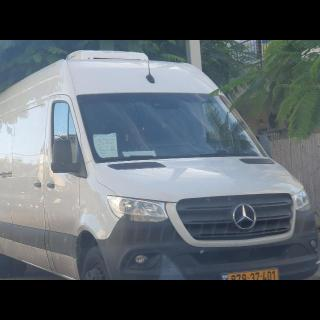LicensePlate: (228, 268, 279, 286)
